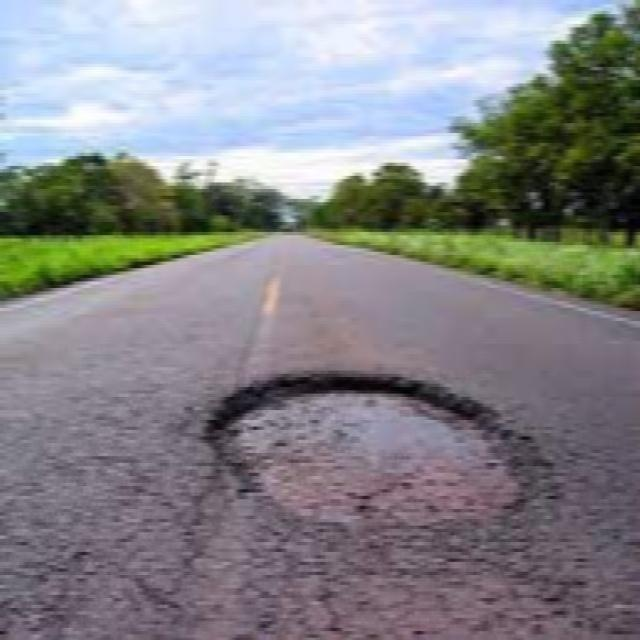Pothole: (167, 356, 554, 578)
